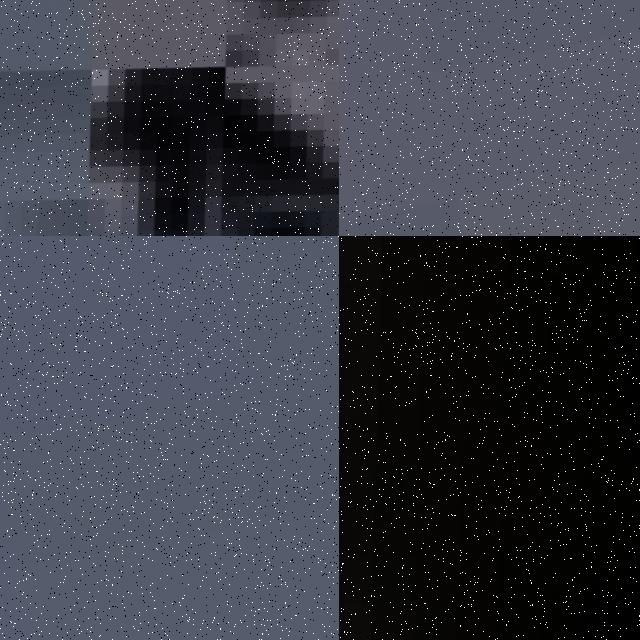0: (0, 0, 339, 236)
drone: (339, 236, 640, 640)
